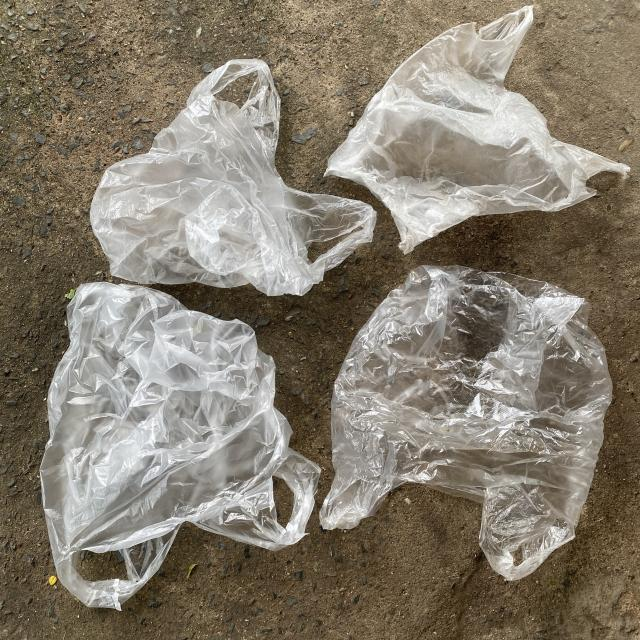Single-layer Plastic: (320, 266, 612, 580), (40, 282, 320, 609), (325, 6, 629, 254), (90, 60, 376, 296)
